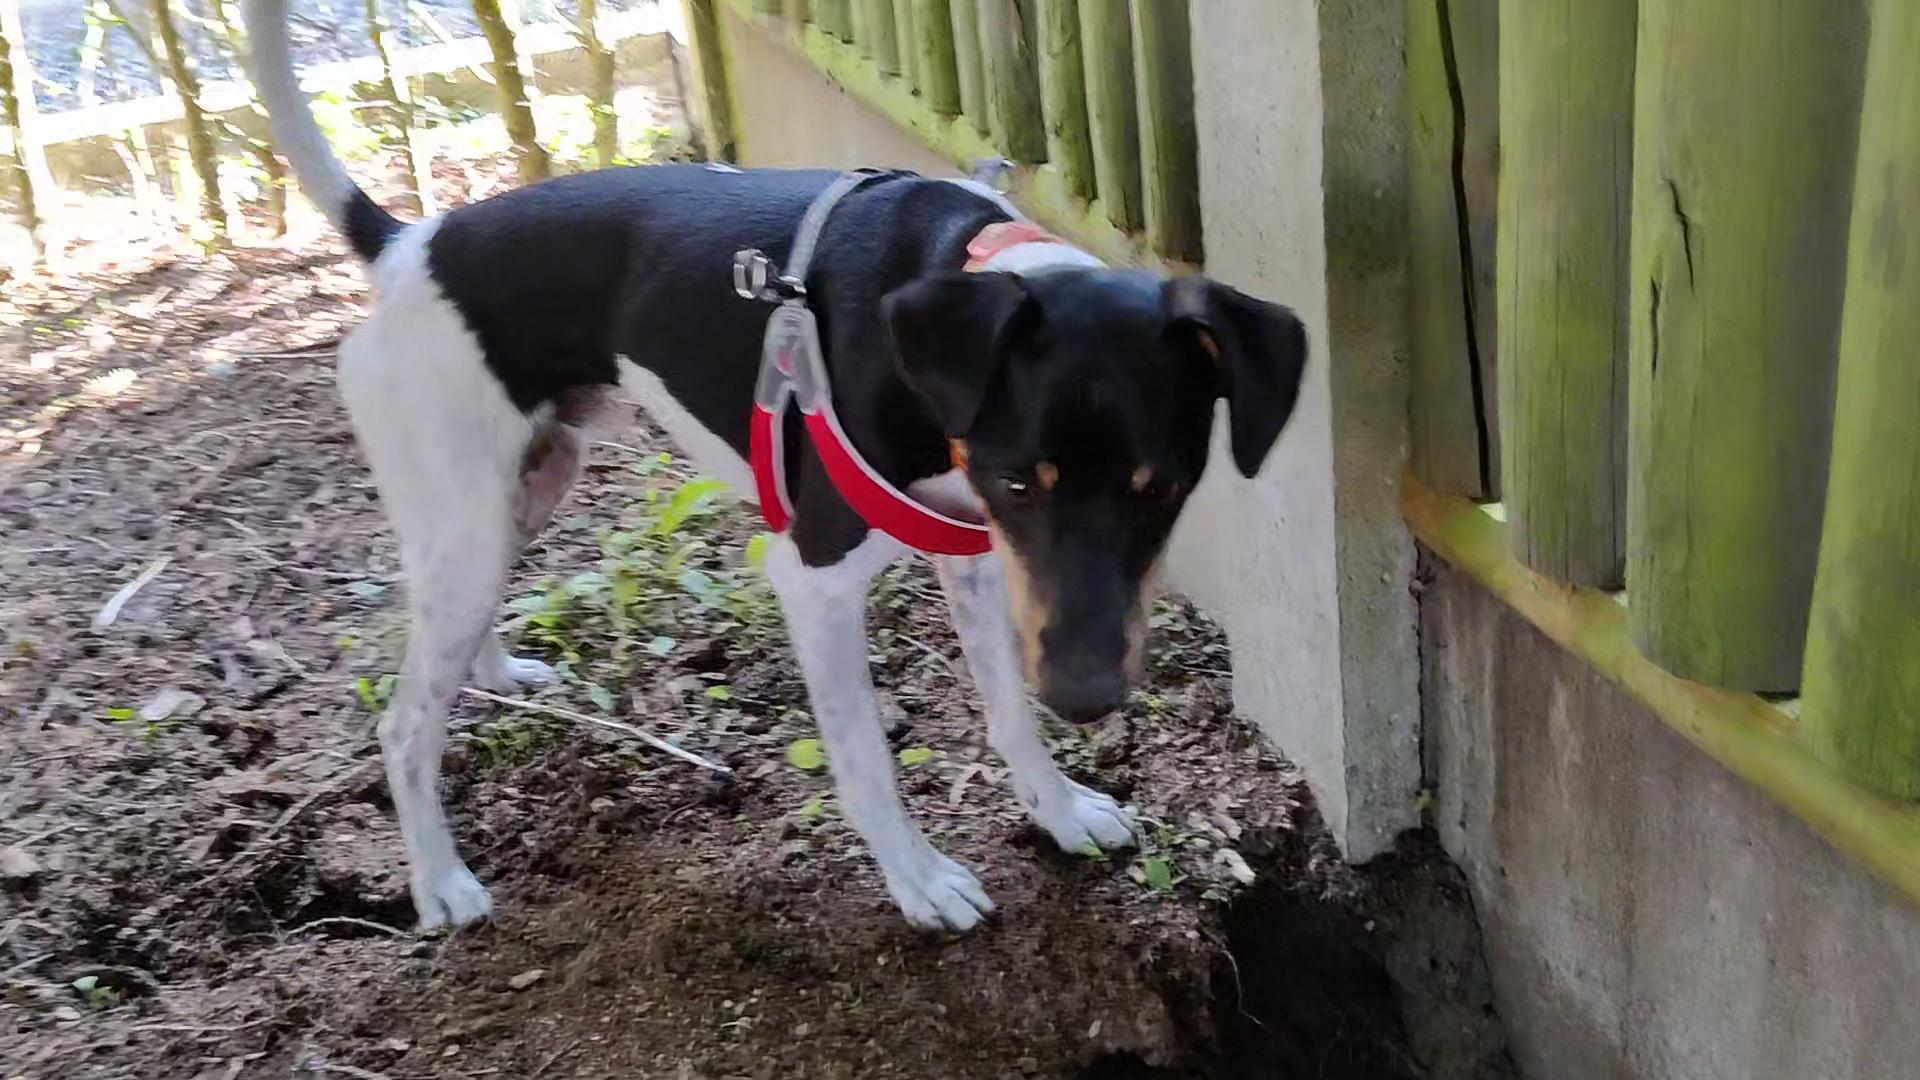Dog: (208, 0, 1331, 959)
